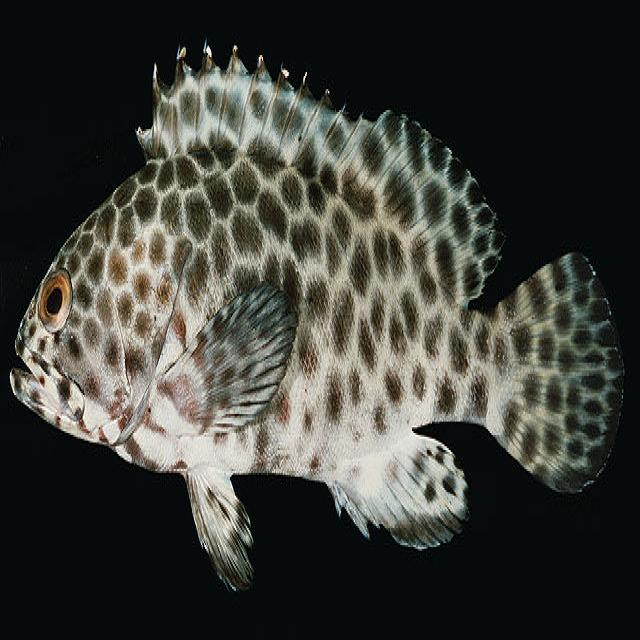ikan: (9, 36, 625, 595)
